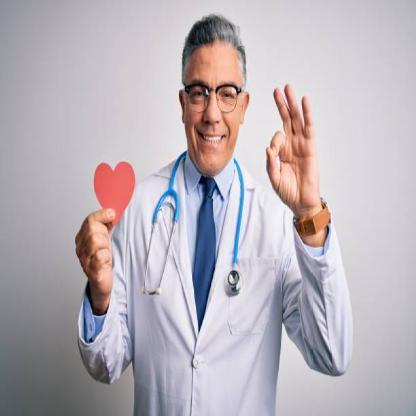ok: (263, 82, 320, 216)
